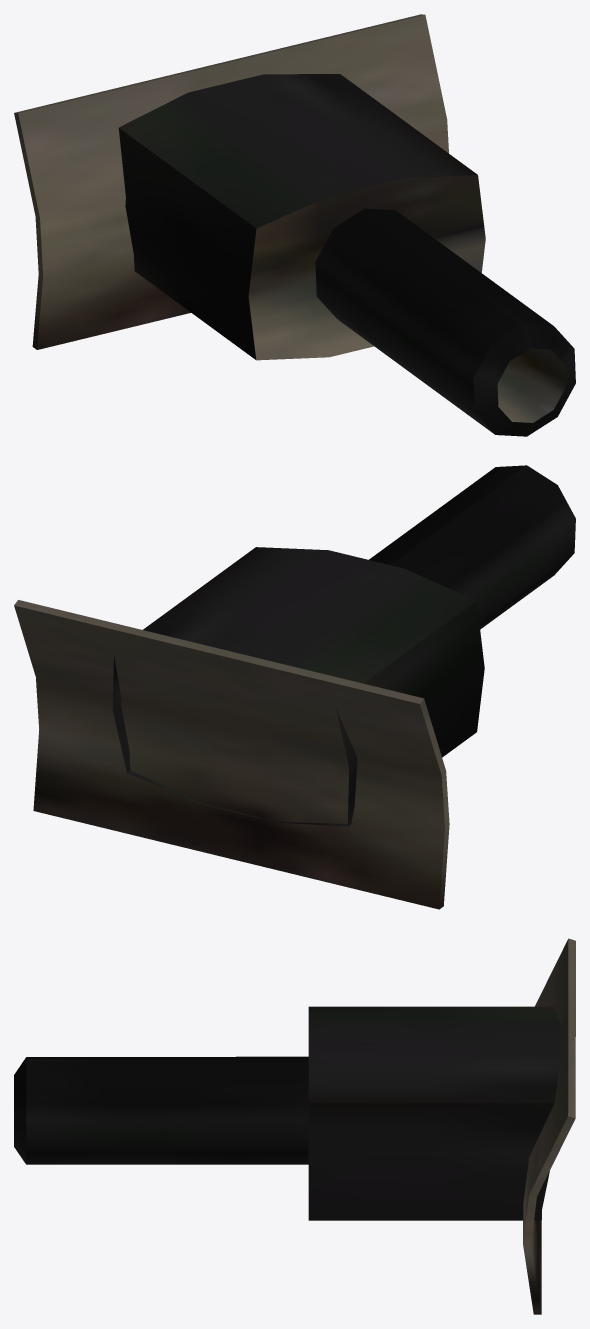
File: pz4_turret_m3.obj
The picture shows the model from 3 angles, top to bottom: view 1: azimuth 30°, elevation 25°; view 2: azimuth 150°, elevation 25°; view 3: azimuth 270°, elevation 25°; orthographic projection. The views are drawn at different scales.
Parts seen in each view (by area): view 1: pz4_turret_m3; view 2: pz4_turret_m3; view 3: pz4_turret_m3.
Part boxes in pixels (x1,y1,x2,y2): pz4_turret_m3: (14, 14, 575, 436); pz4_turret_m3: (14, 465, 575, 909); pz4_turret_m3: (14, 938, 575, 1314).
Bounding box in the file's own units: 0.79 × 0.4133 × 1.06.
1 material, 1 textured.
